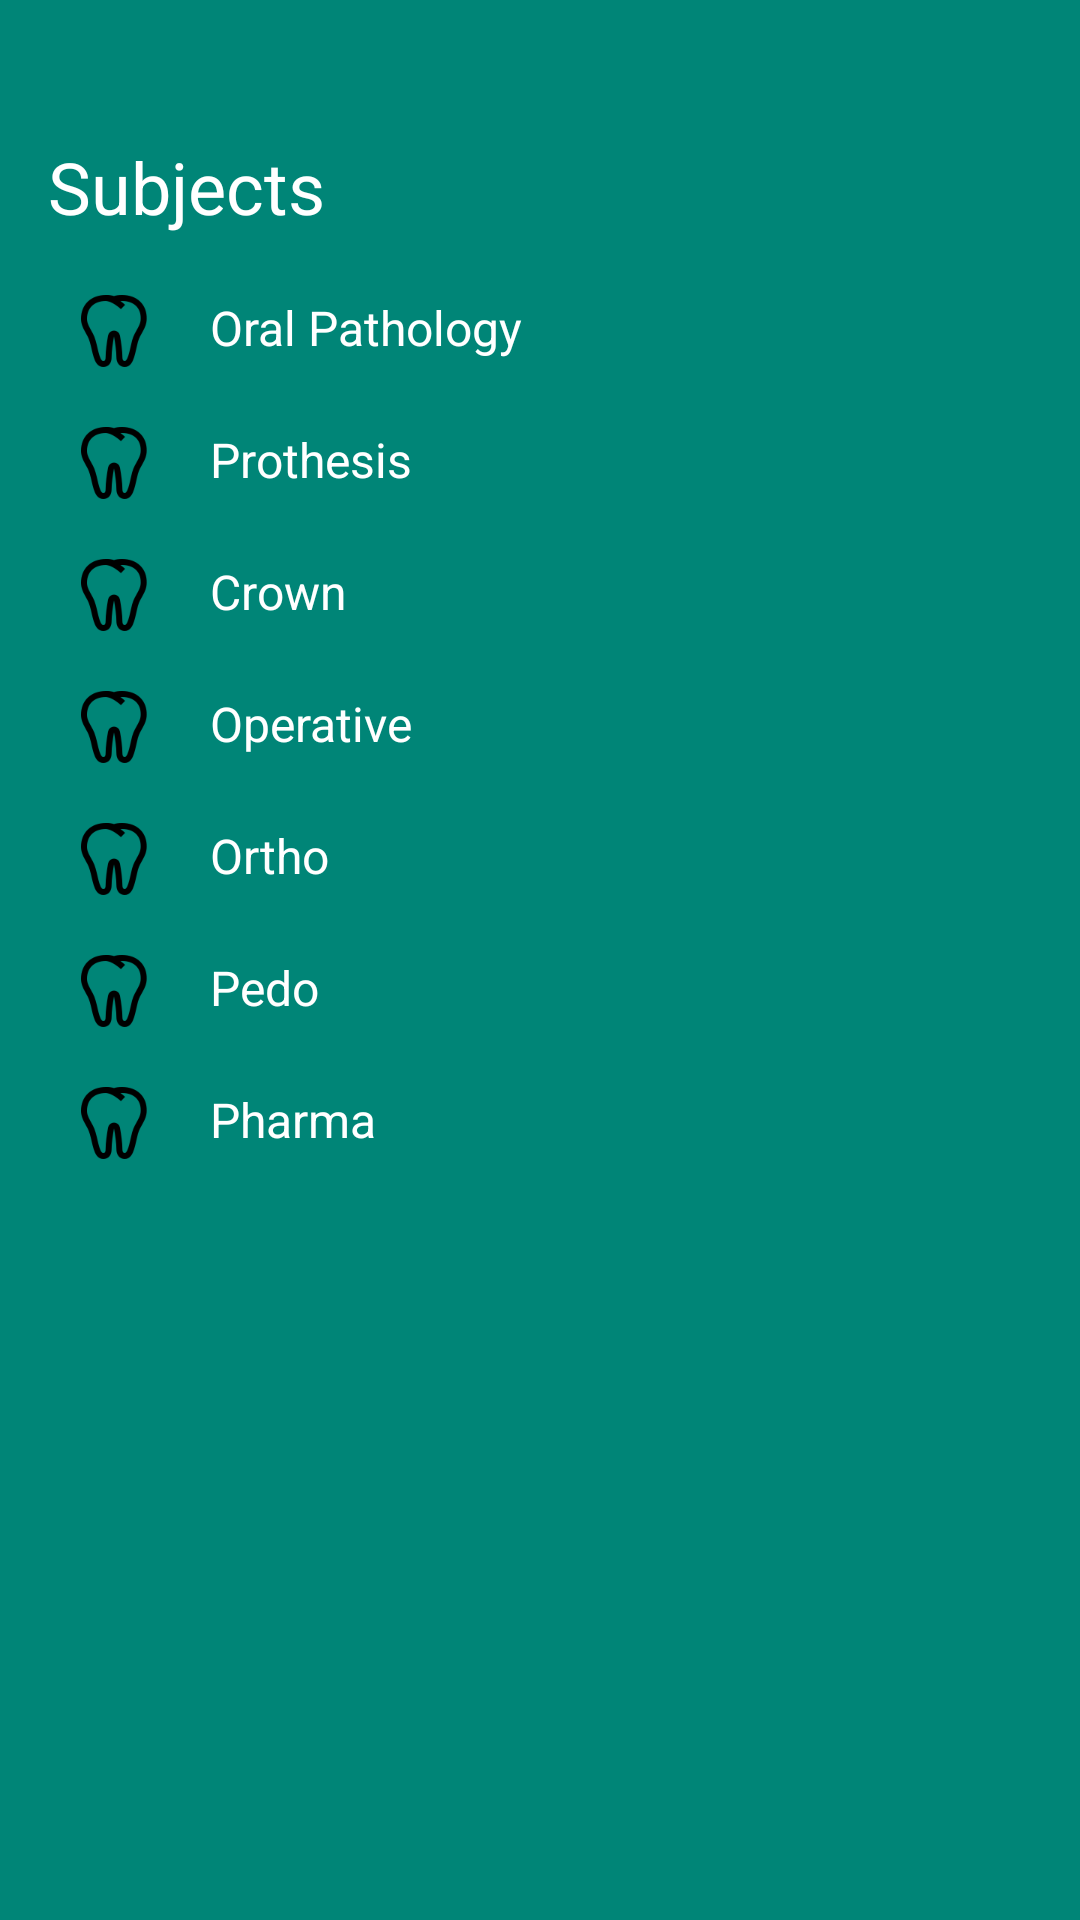

Named icons in this screenshot (1080×1920) and their bounding boxes, BBox(x1, y1, x2, y2):
tooth: BBox(81, 295, 147, 367), BBox(81, 427, 147, 499), BBox(81, 559, 147, 631), BBox(81, 691, 147, 763), BBox(81, 823, 147, 895), BBox(81, 955, 147, 1027), BBox(81, 1087, 147, 1159)
